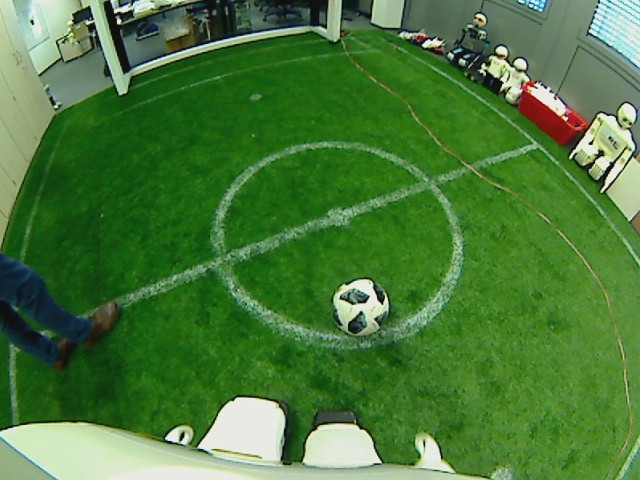ball: (328, 275, 392, 337)
